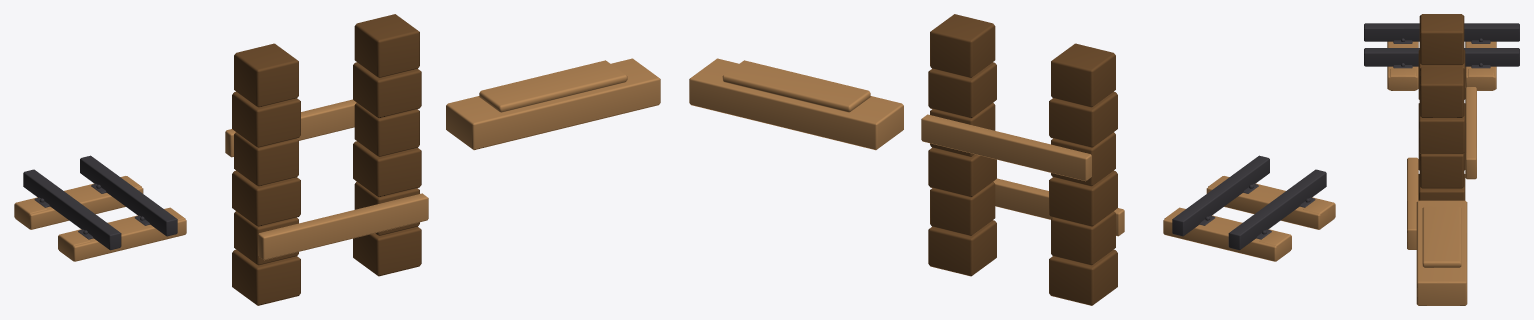
Rendered from PieceKitPP.fbx.
3 views of the same model, side by side, from view 1: azimuth 30°, elevation 25°; view 2: azimuth 150°, elevation 25°; view 3: azimuth 270°, elevation 25° (orthographic). The views are drawn at different scales.
Parts seen in each view (by area): view 1: PC_Trestle_Log, PC_TrestleCap_Plank, PC_Trestle_Plank, PC_Track_Iron, PC_Track_Plank; view 2: PC_Trestle_Log, PC_TrestleCap_Plank, PC_Trestle_Plank, PC_Track_Iron, PC_Track_Plank; view 3: PC_Trestle_Log, PC_TrestleCap_Plank, PC_Track_Iron, PC_Trestle_Plank, PC_Track_Plank.
Boxes of the visible parts, box(x1,y1,x2,y2) form: PC_Trestle_Log: box(232, 14, 421, 305); PC_TrestleCap_Plank: box(446, 58, 660, 150); PC_Trestle_Plank: box(225, 99, 428, 260); PC_Track_Iron: box(23, 155, 177, 250); PC_Track_Plank: box(14, 176, 186, 261); PC_Trestle_Log: box(928, 14, 1117, 305); PC_TrestleCap_Plank: box(689, 58, 903, 150); PC_Trestle_Plank: box(921, 114, 1124, 236); PC_Track_Iron: box(1172, 155, 1326, 250); PC_Track_Plank: box(1163, 176, 1335, 261); PC_Trestle_Log: box(1418, 14, 1465, 200); PC_TrestleCap_Plank: box(1416, 200, 1467, 305); PC_Track_Iron: box(1364, 23, 1519, 68); PC_Trestle_Plank: box(1407, 87, 1476, 249); PC_Track_Plank: box(1387, 41, 1496, 90).
Size of the model in its own units: 1600 by 598 by 400.
